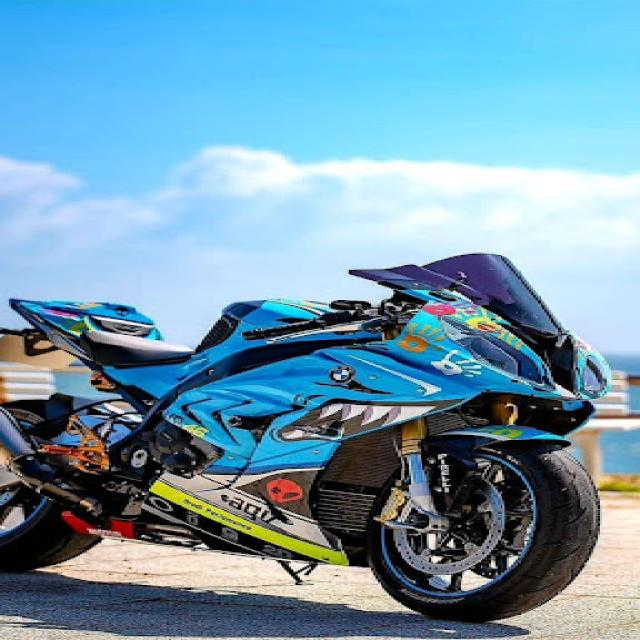bike: (1, 252, 606, 623)
